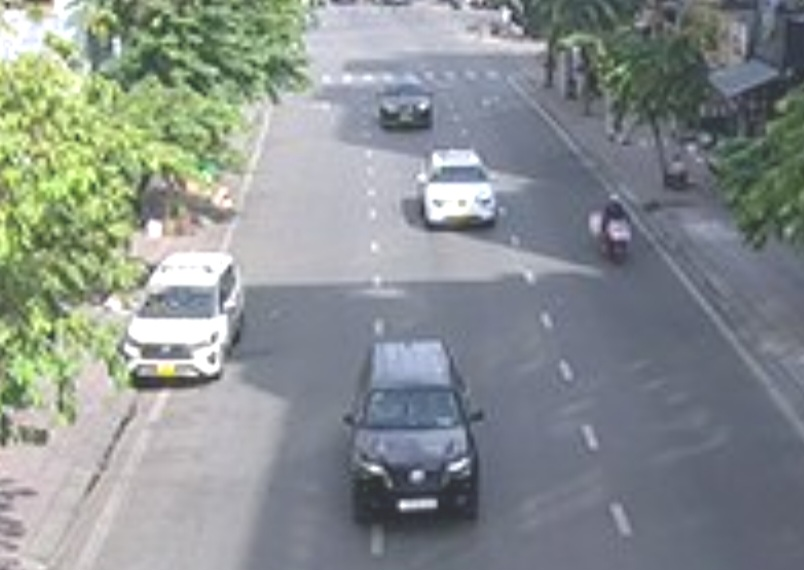car: (346, 343, 488, 522), (123, 257, 239, 387), (414, 148, 504, 231), (375, 79, 435, 130)
